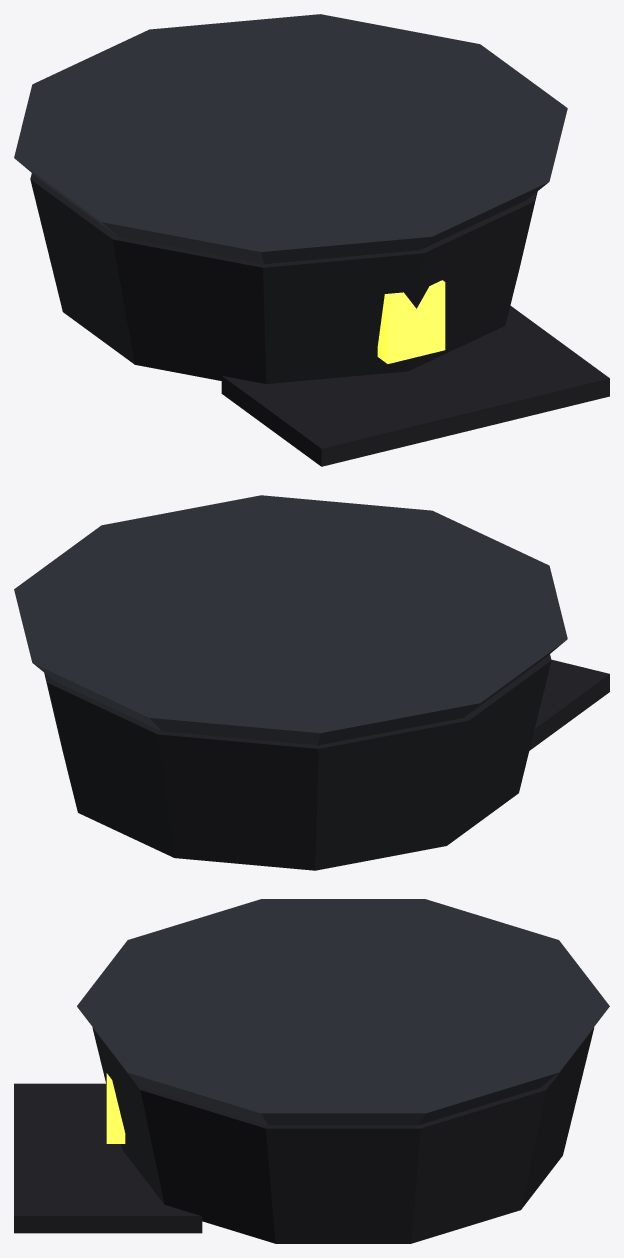
The model's file is dc_peaked_cap.glb.
3 views of the same model, one above another, from view 1: azimuth 30°, elevation 25°; view 2: azimuth 150°, elevation 25°; view 3: azimuth 270°, elevation 25° (orthographic). The views are drawn at different scales.
Visible parts, largest first — view 1: part.dc_peaked_cap; view 2: part.dc_peaked_cap; view 3: part.dc_peaked_cap.
Boxes of the visible parts, x1,y1,x2,y2 form: part.dc_peaked_cap: (14, 14, 609, 466); part.dc_peaked_cap: (14, 495, 609, 870); part.dc_peaked_cap: (14, 899, 609, 1243).
Size of the model in its own units: 0.3234 by 0.113 by 0.38.
